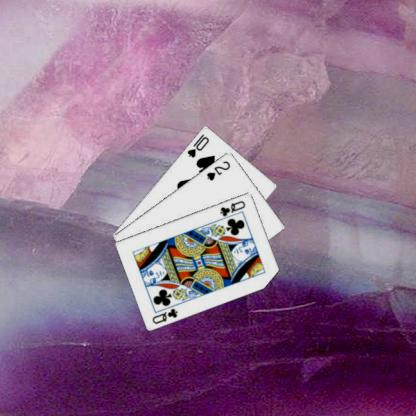10S: (184, 131, 211, 159)
2S: (204, 158, 232, 182)
QC: (217, 197, 247, 218), (150, 305, 179, 325)
